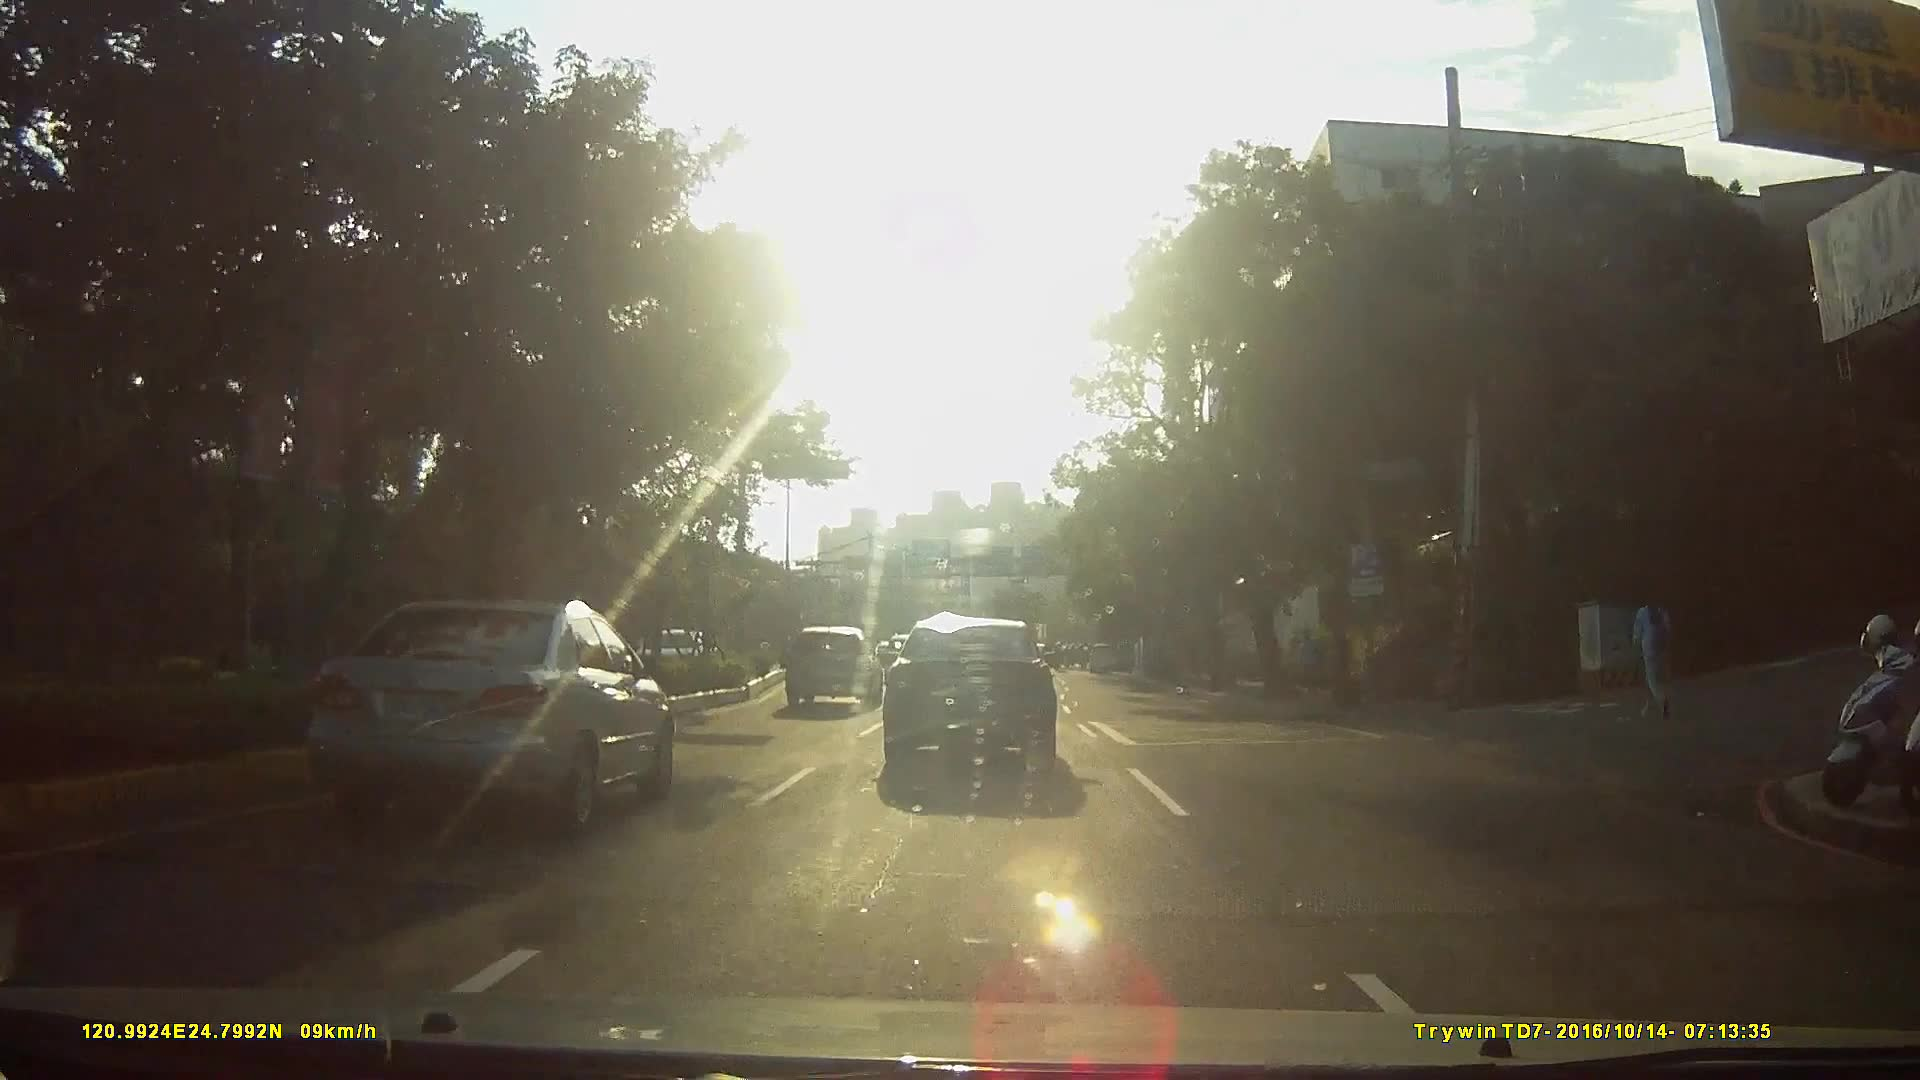pedestrian: (1631, 583, 1683, 718)
vehicle: (290, 595, 676, 830), (875, 615, 1076, 785), (782, 626, 883, 712), (1082, 642, 1116, 676)
